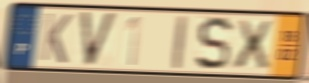1: (126, 15, 143, 67)
I: (172, 13, 189, 71)
K: (38, 10, 74, 66)
S: (194, 15, 234, 73)
V: (78, 10, 120, 69)
X: (231, 18, 274, 71)
